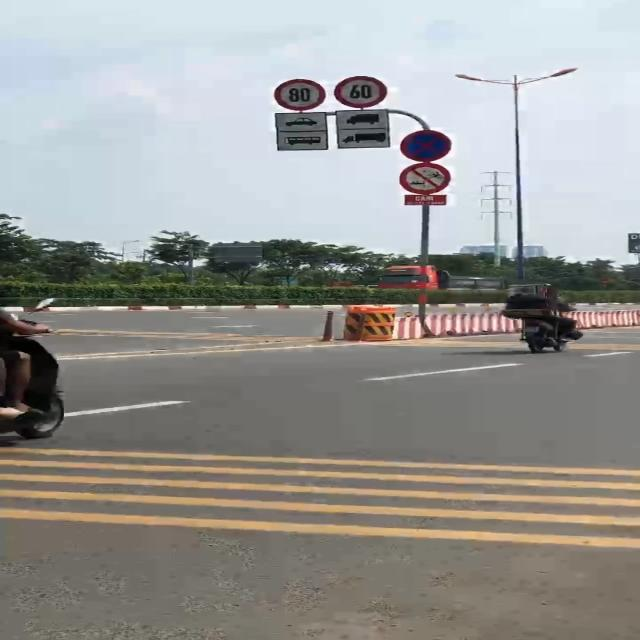Bien bao cam dung xe va do xe: (398, 129, 454, 164)
Bien bao toc do toi da cho phep: (332, 74, 388, 110), (271, 77, 328, 111)
